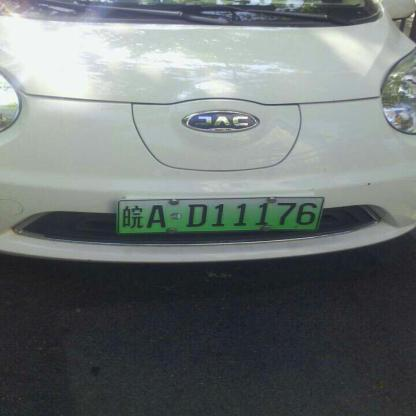lp: (118, 197, 322, 231)
